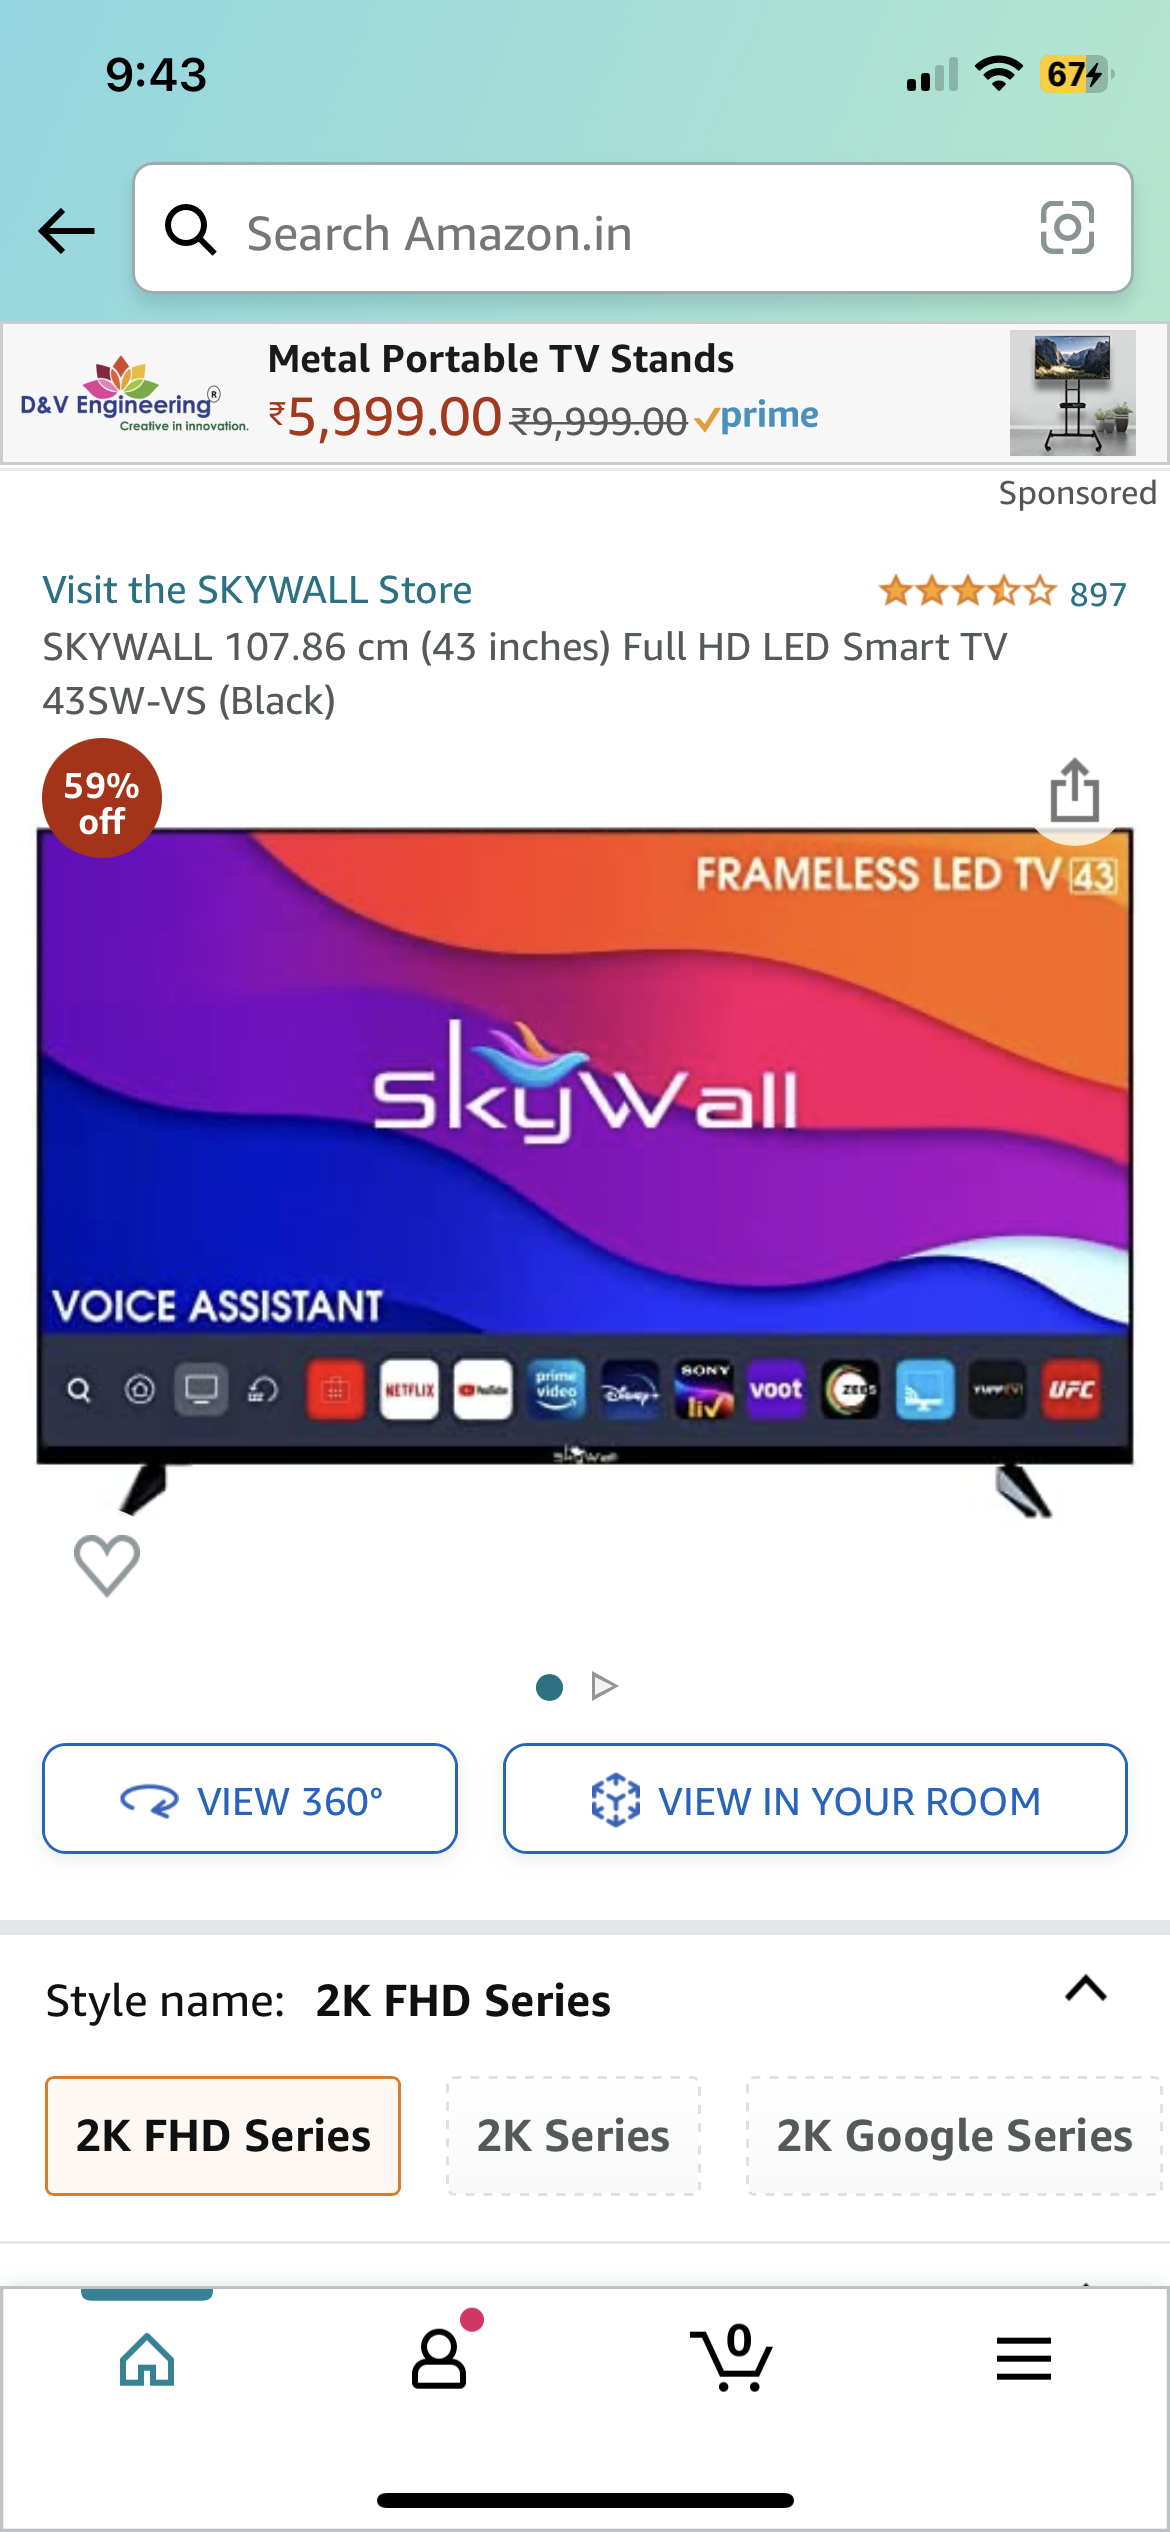LEDTV: (29, 819, 1136, 1515)
